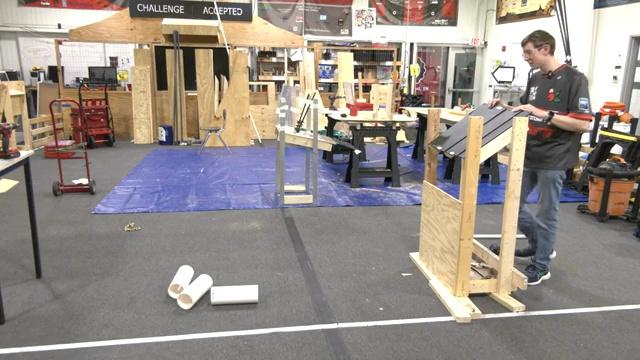CORAL: (176, 272, 213, 309), (209, 283, 259, 305), (166, 263, 194, 299)
